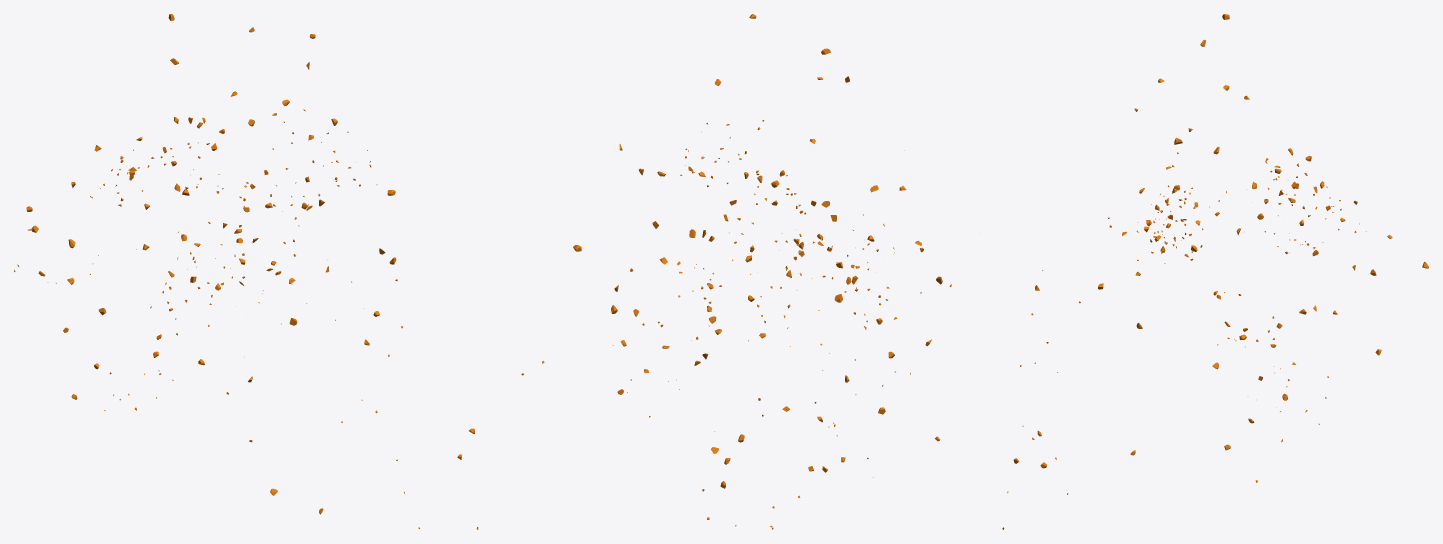
Rendered from Explode_Cube.f0049.glb.
3 renders of one model, left to right at view 1: azimuth 30°, elevation 25°; view 2: azimuth 150°, elevation 25°; view 3: azimuth 270°, elevation 25°, orthographic. The views are drawn at different scales.
Bounding box in the file's own units: 26.21 × 29.52 × 27.78.
